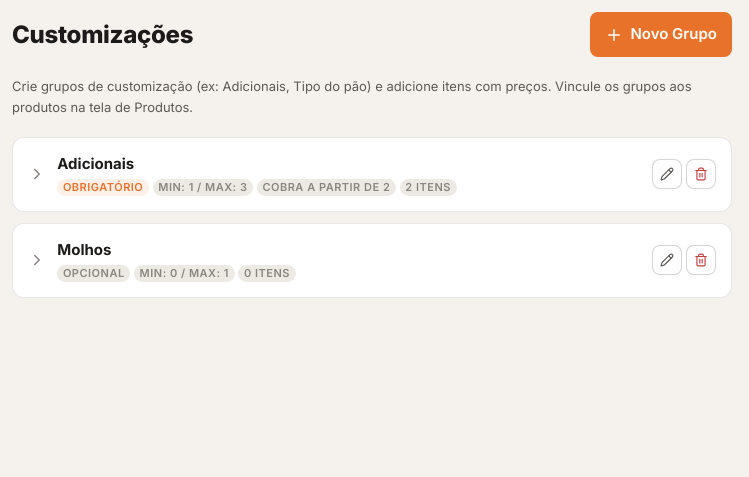
CustomizationsPage › expands a group to show items and collapses again
Check: the text "Adicionais" is shown, box [57,154,134,173]
Click the button with aria-label "Expandir Adicionais" at {"x": 96, "y": 163}, box [28,153,641,196]
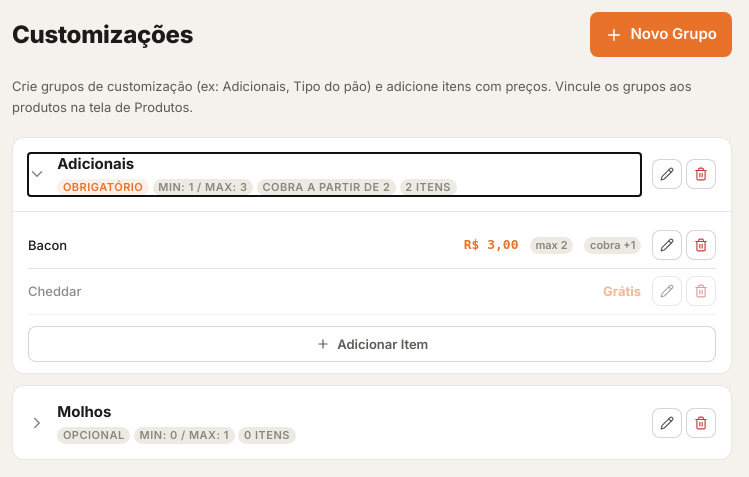
Check: the text "Bacon" is shown, box [28,237,67,253]
Check: the text "Grátis" is shown, box [603,282,641,301]
Check: the text "max 2" is shown, box [530,237,573,254]
Click the button with aria-label "Recolher Adicionais" at {"x": 96, "y": 163}, box [28,153,641,196]
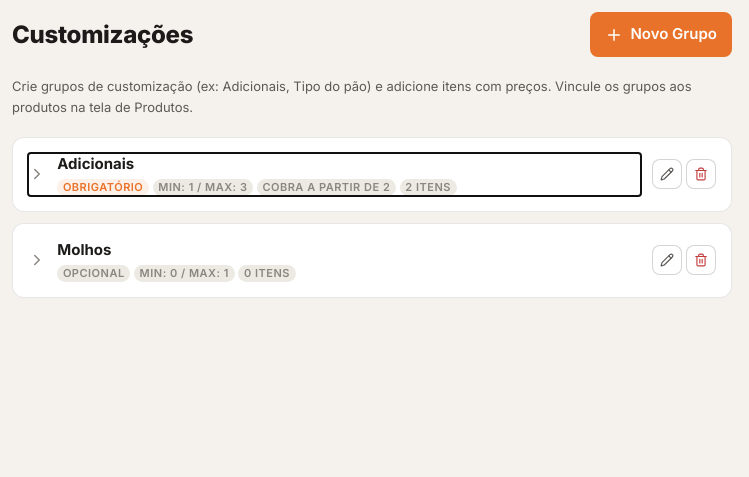
Check: the text "Bacon" is gone
